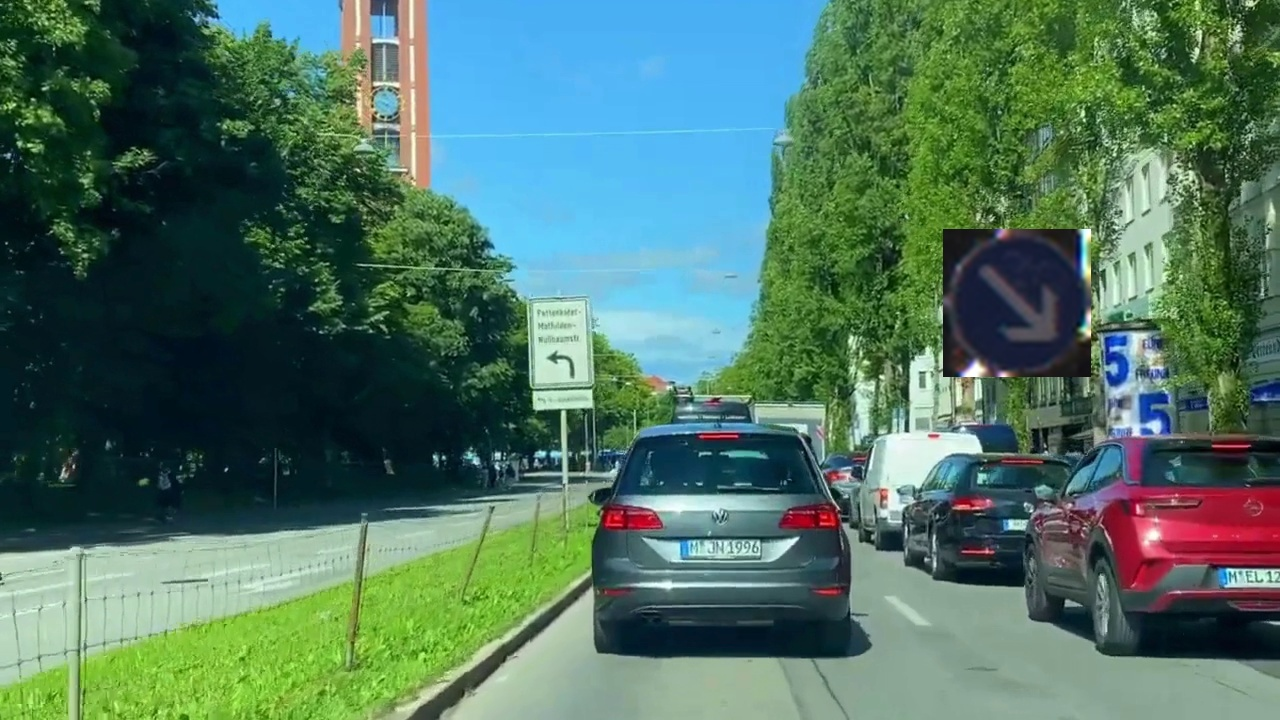Keep right: (943, 229, 1091, 377)
